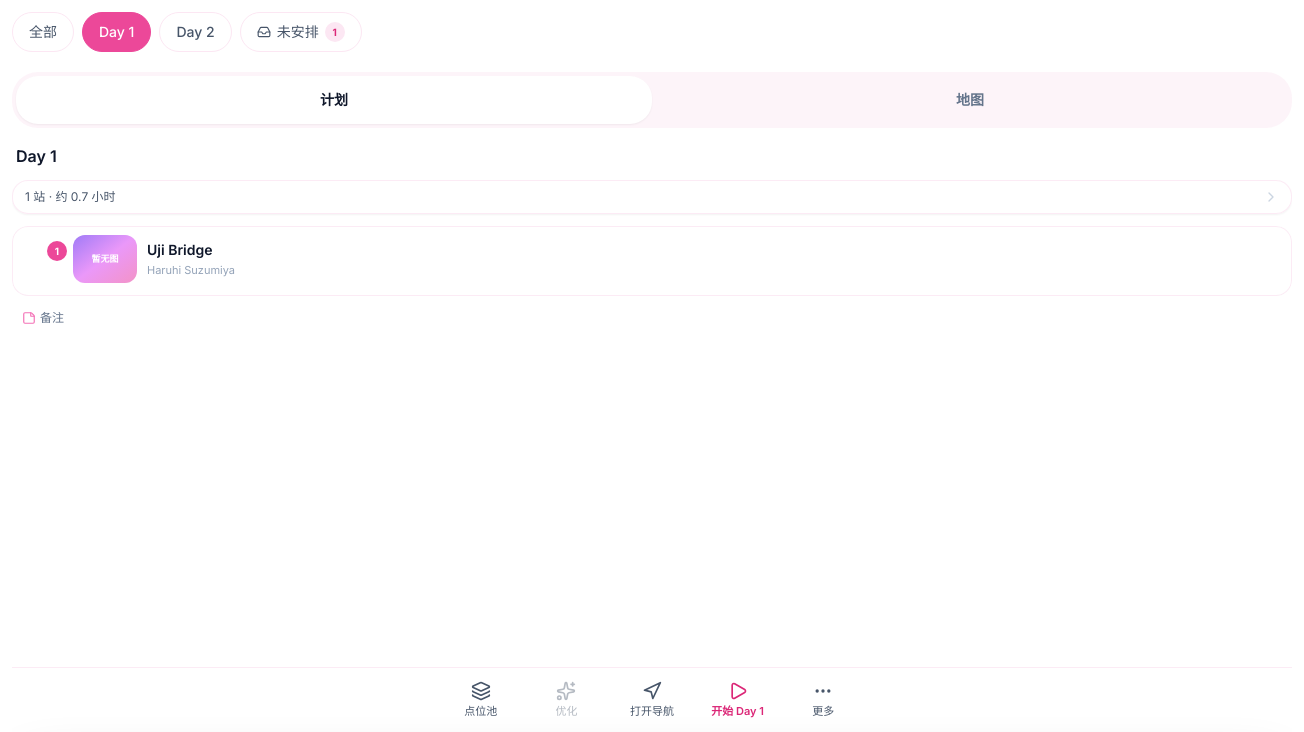
Test: MobileLayout 未安排视图与外部选天同步（G4） › 未安排视图点「开始」→ 选天 → 胶囊/列表/地图/按钮文案一致切到该天
What coordinates should you click on to do the following:
click the tab "未安排 1"
I would click on:
 (301, 32)
Its box is x1=240 y1=12 x2=362 y2=52.
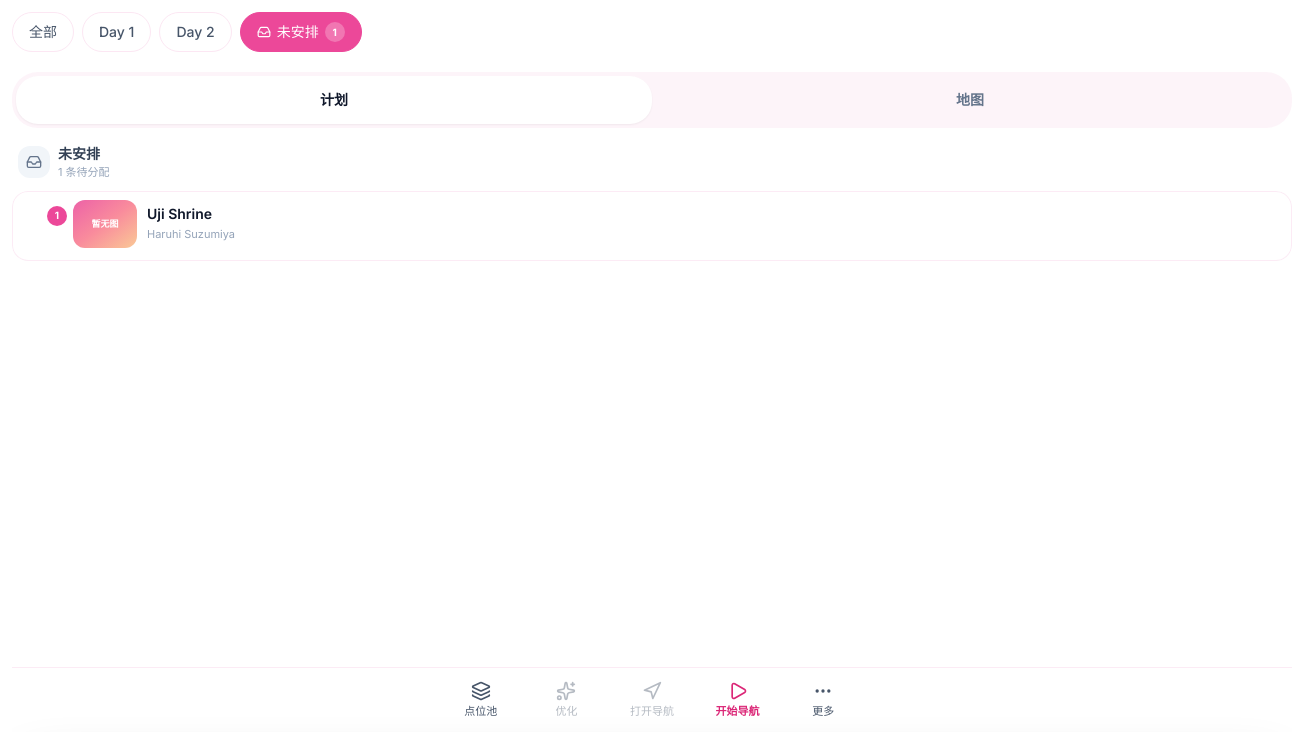
Expected: the button "当天住宿" is gone
What coordinates should you click on to do the following:
click the button "开始导航"
I would click on:
 (738, 700)
Its box is x1=697 y1=676 x2=778 y2=724.
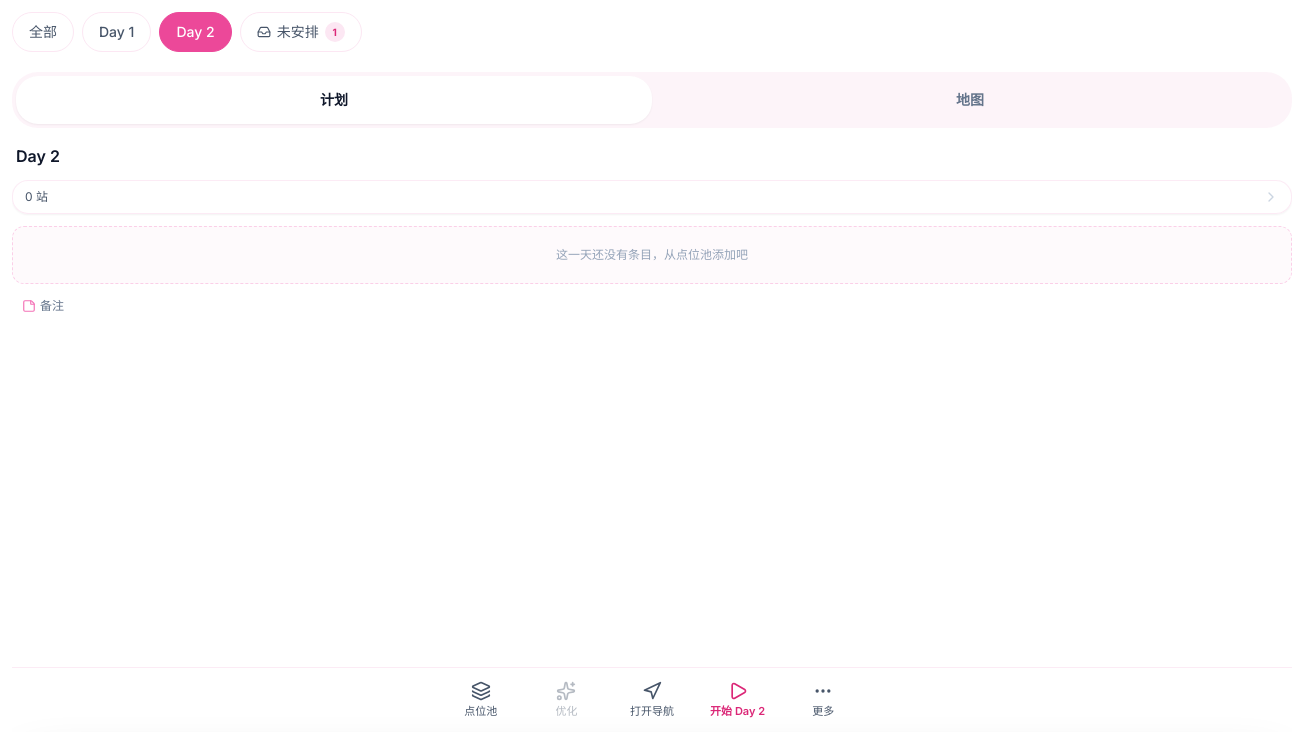
Expected: the button named "当天住宿" is shown, x1=12 y1=180 x2=1292 y2=214
Expected: the button "开始 Day 2" is shown, x1=697 y1=676 x2=778 y2=724
Expected: the button "打开导航" is enabled, x1=611 y1=676 x2=693 y2=724
